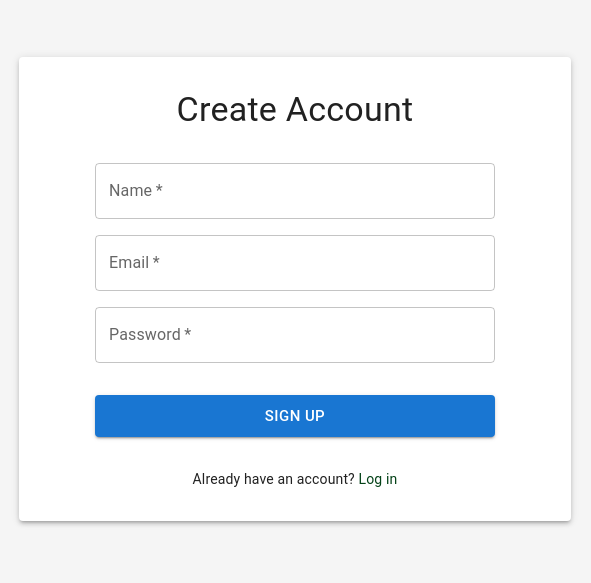
Auth Integration - Signup › shows error for duplicate email
// Use the email that triggers 409 in the MSW handler
Type "Test User" into the field labelled "Name *" at (295, 191), box [95,163,495,219]
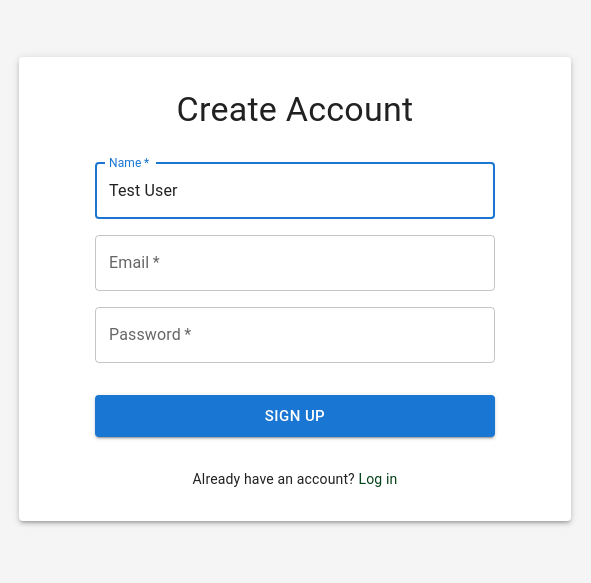
Type "existing@example.com" into the field labelled "Email *" at (295, 263), box [95,235,495,291]
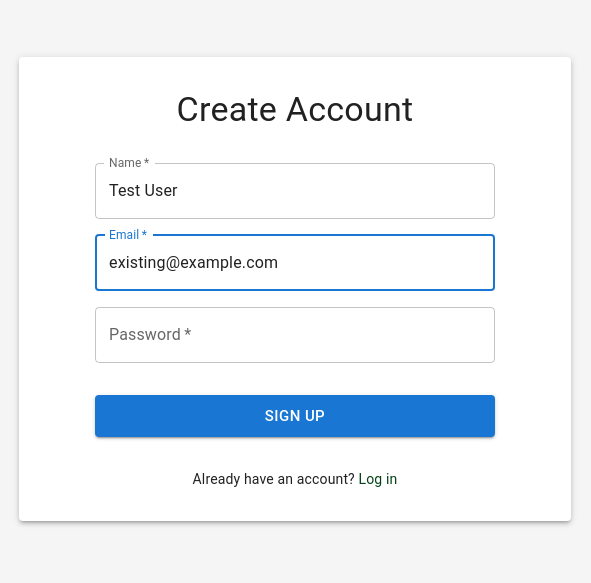
Type "password123" into the password field labelled "Password *" at (295, 335), box [95,307,495,363]
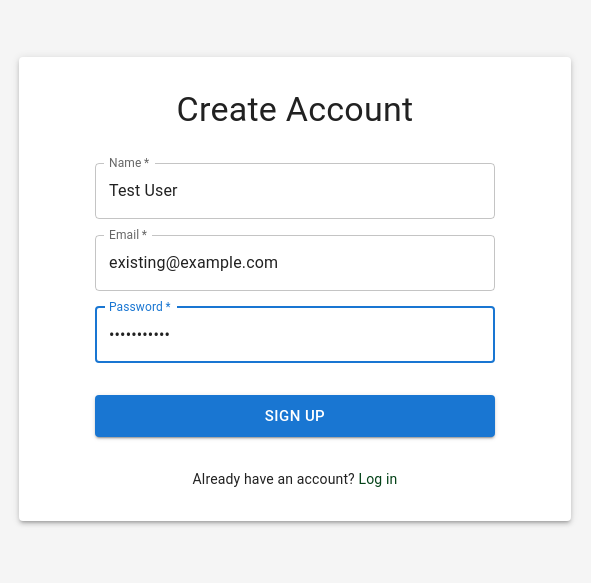
Click the button "Sign Up" at (295, 416), box [95,395,495,437]
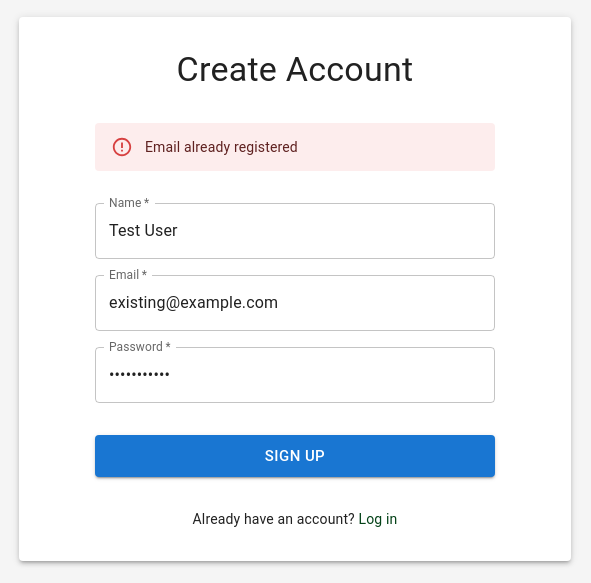
Now the message "Email already registered" is shown, box [95,123,495,171]
